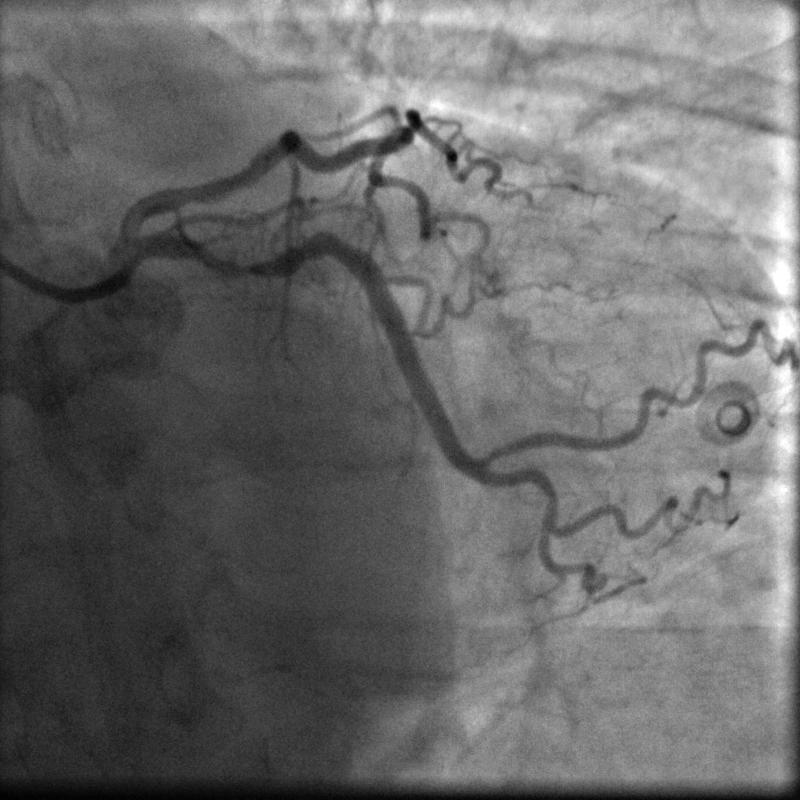Stenosis: (212, 252, 273, 285)
